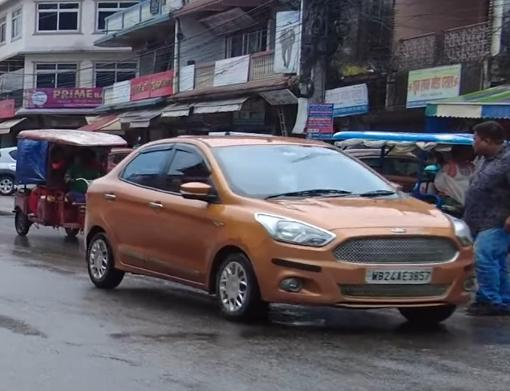car: (86, 127, 478, 324)
e-rickshaw: (10, 125, 126, 241)
